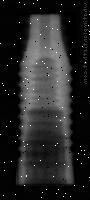Biomet 3i: (17, 12, 76, 185)
